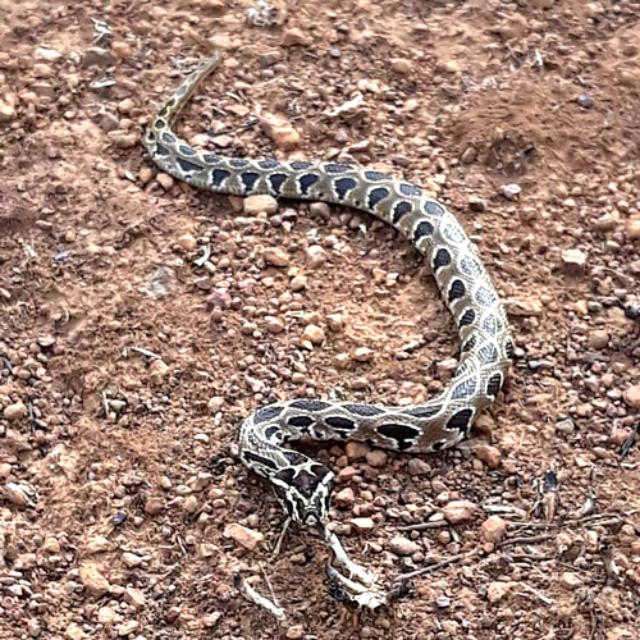snake: (137, 46, 521, 612)
